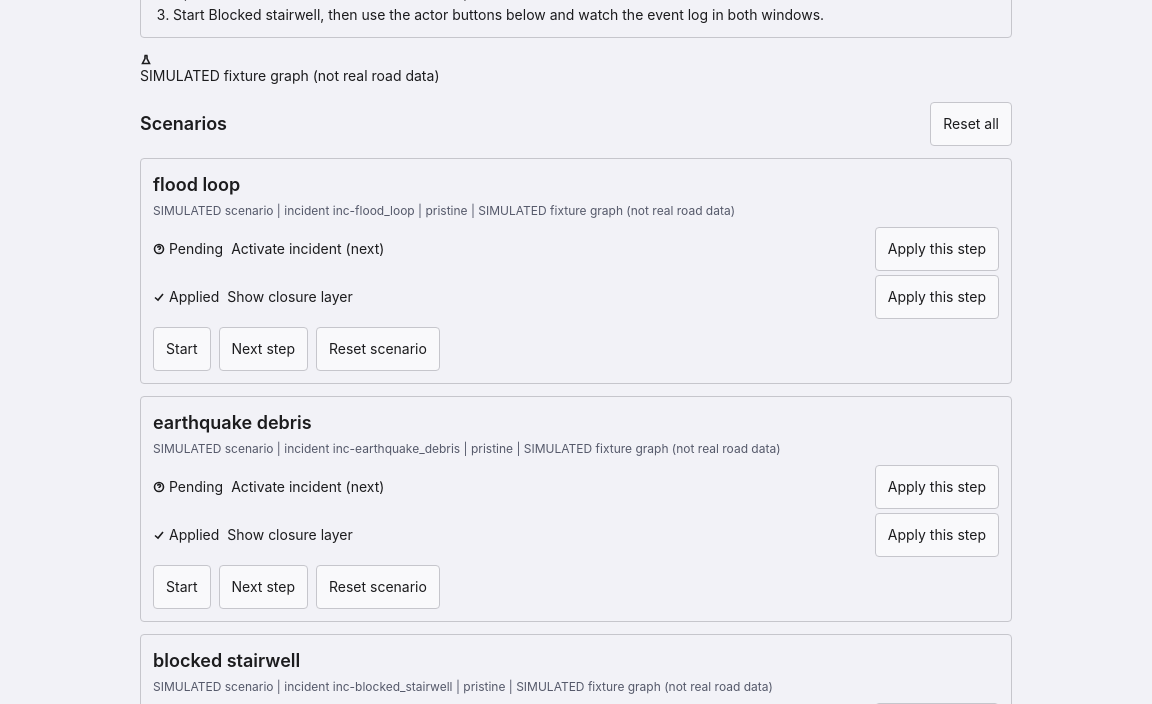
DemoAdmin scenarios › shows a 403 envelope as a moderator-only message
This screenshot has width=1152, height=704.
(page scrolled)
Click the button "Start" below "inc-flood_loop". click: x=182, y=349
box: [153,327,211,371]
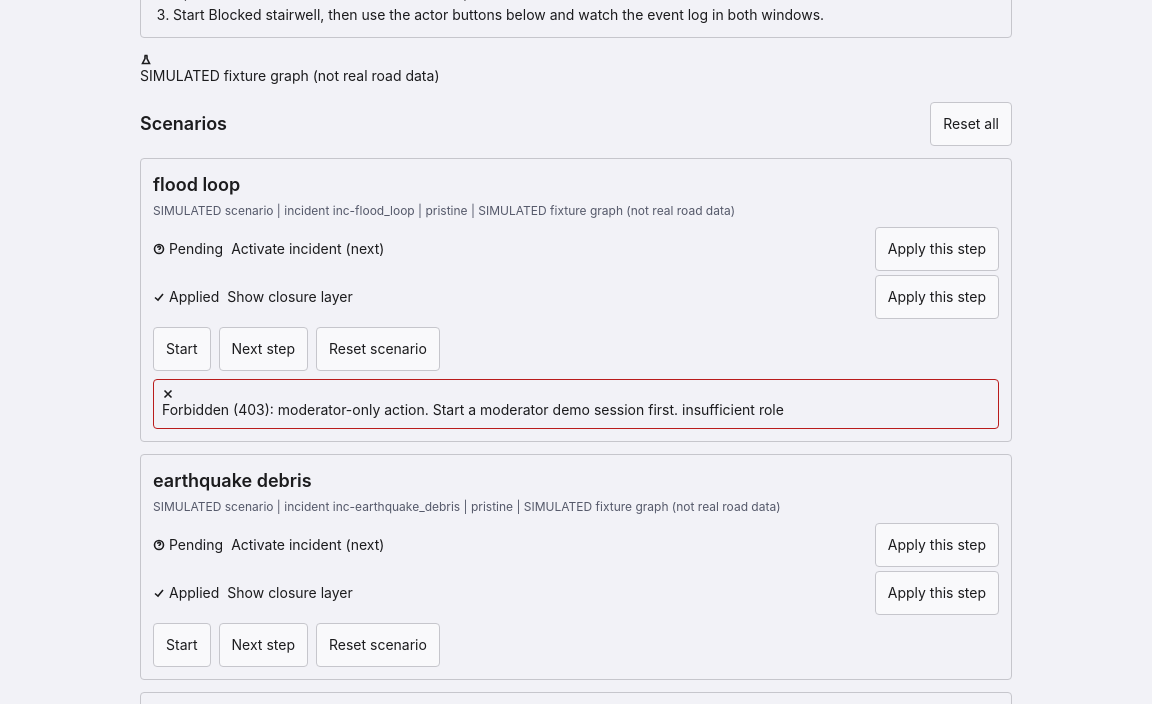
Check: the message with test id "error-flood_loop" shows "moderator-only", box [162,401,784,418]
